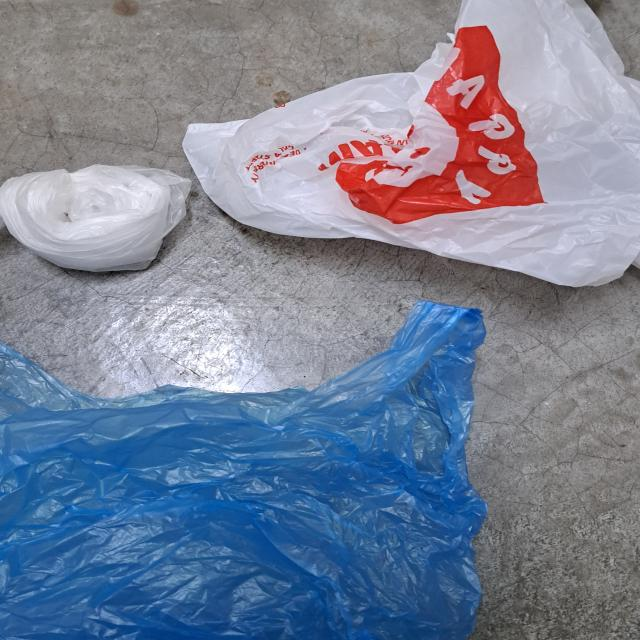plastic bag: (0, 300, 487, 640), (179, 0, 640, 289), (0, 162, 192, 275)
